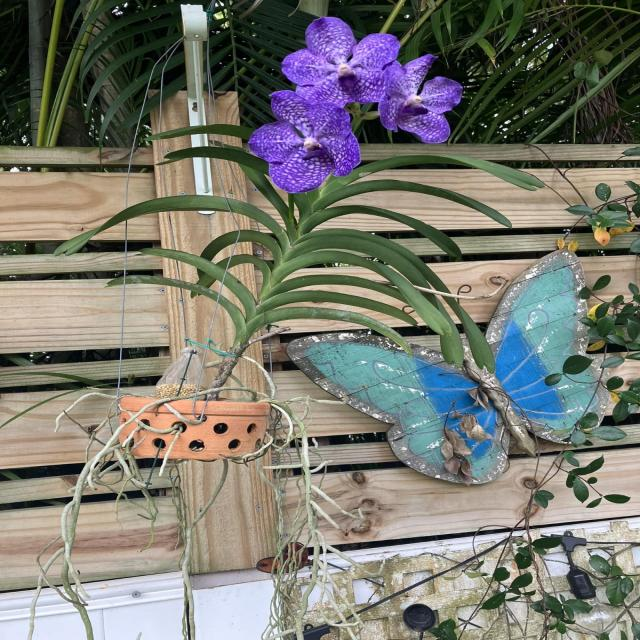flower: (250, 87, 359, 192), (282, 18, 402, 108), (378, 56, 460, 143)
leaf: (273, 251, 451, 335), (56, 195, 285, 254), (318, 155, 546, 197), (300, 229, 449, 292), (314, 180, 509, 225), (300, 205, 461, 257), (285, 229, 428, 287), (134, 250, 255, 315), (125, 276, 244, 332), (251, 309, 406, 346), (260, 274, 409, 312), (260, 290, 416, 324), (443, 296, 494, 373), (240, 165, 293, 231), (165, 146, 268, 174), (1, 396, 55, 428), (155, 125, 252, 139), (107, 278, 123, 286)
plant: (51, 20, 561, 620)
pot: (104, 385, 279, 470)
root: (258, 396, 341, 640), (61, 420, 147, 575), (38, 457, 97, 594), (154, 418, 209, 474), (68, 590, 93, 640), (261, 363, 276, 399), (244, 356, 259, 368)
stem: (233, 238, 297, 358), (212, 359, 238, 388)
